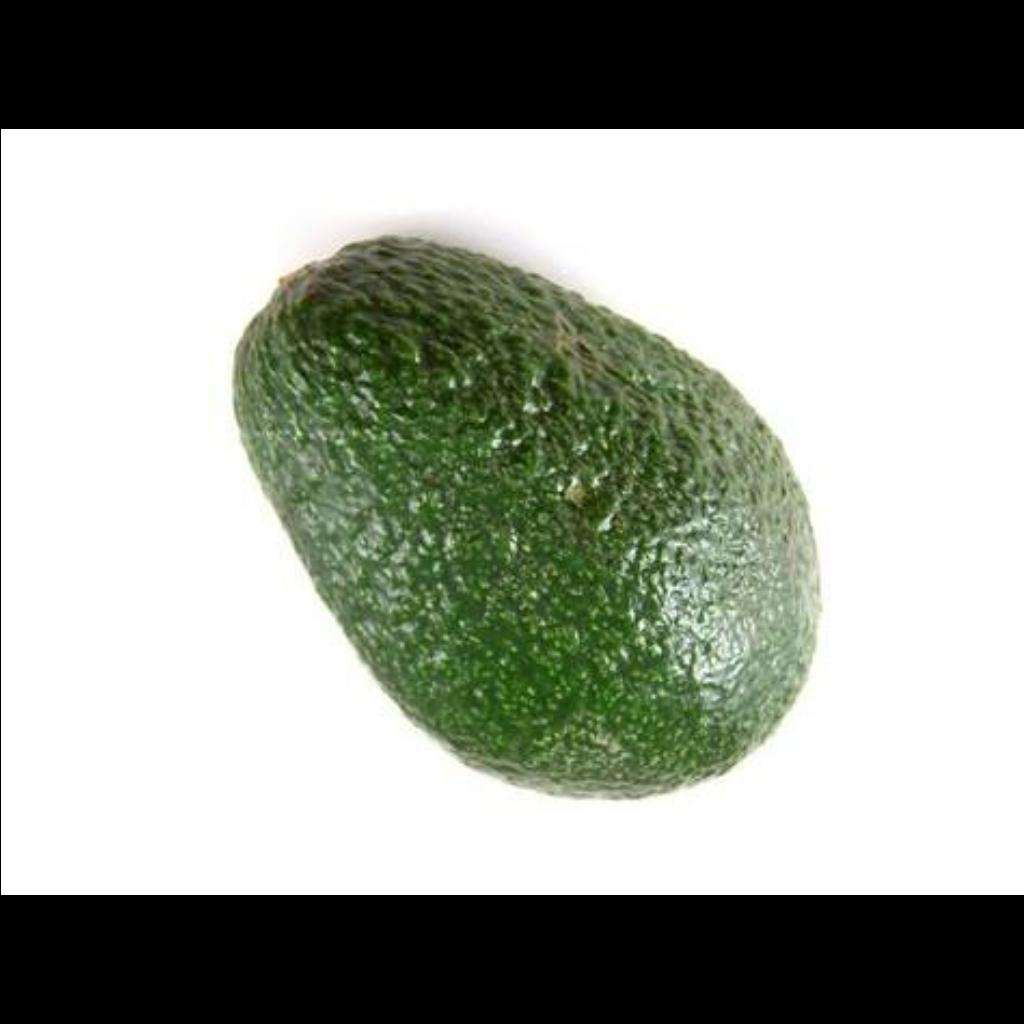Healthy: (202, 208, 902, 816)
